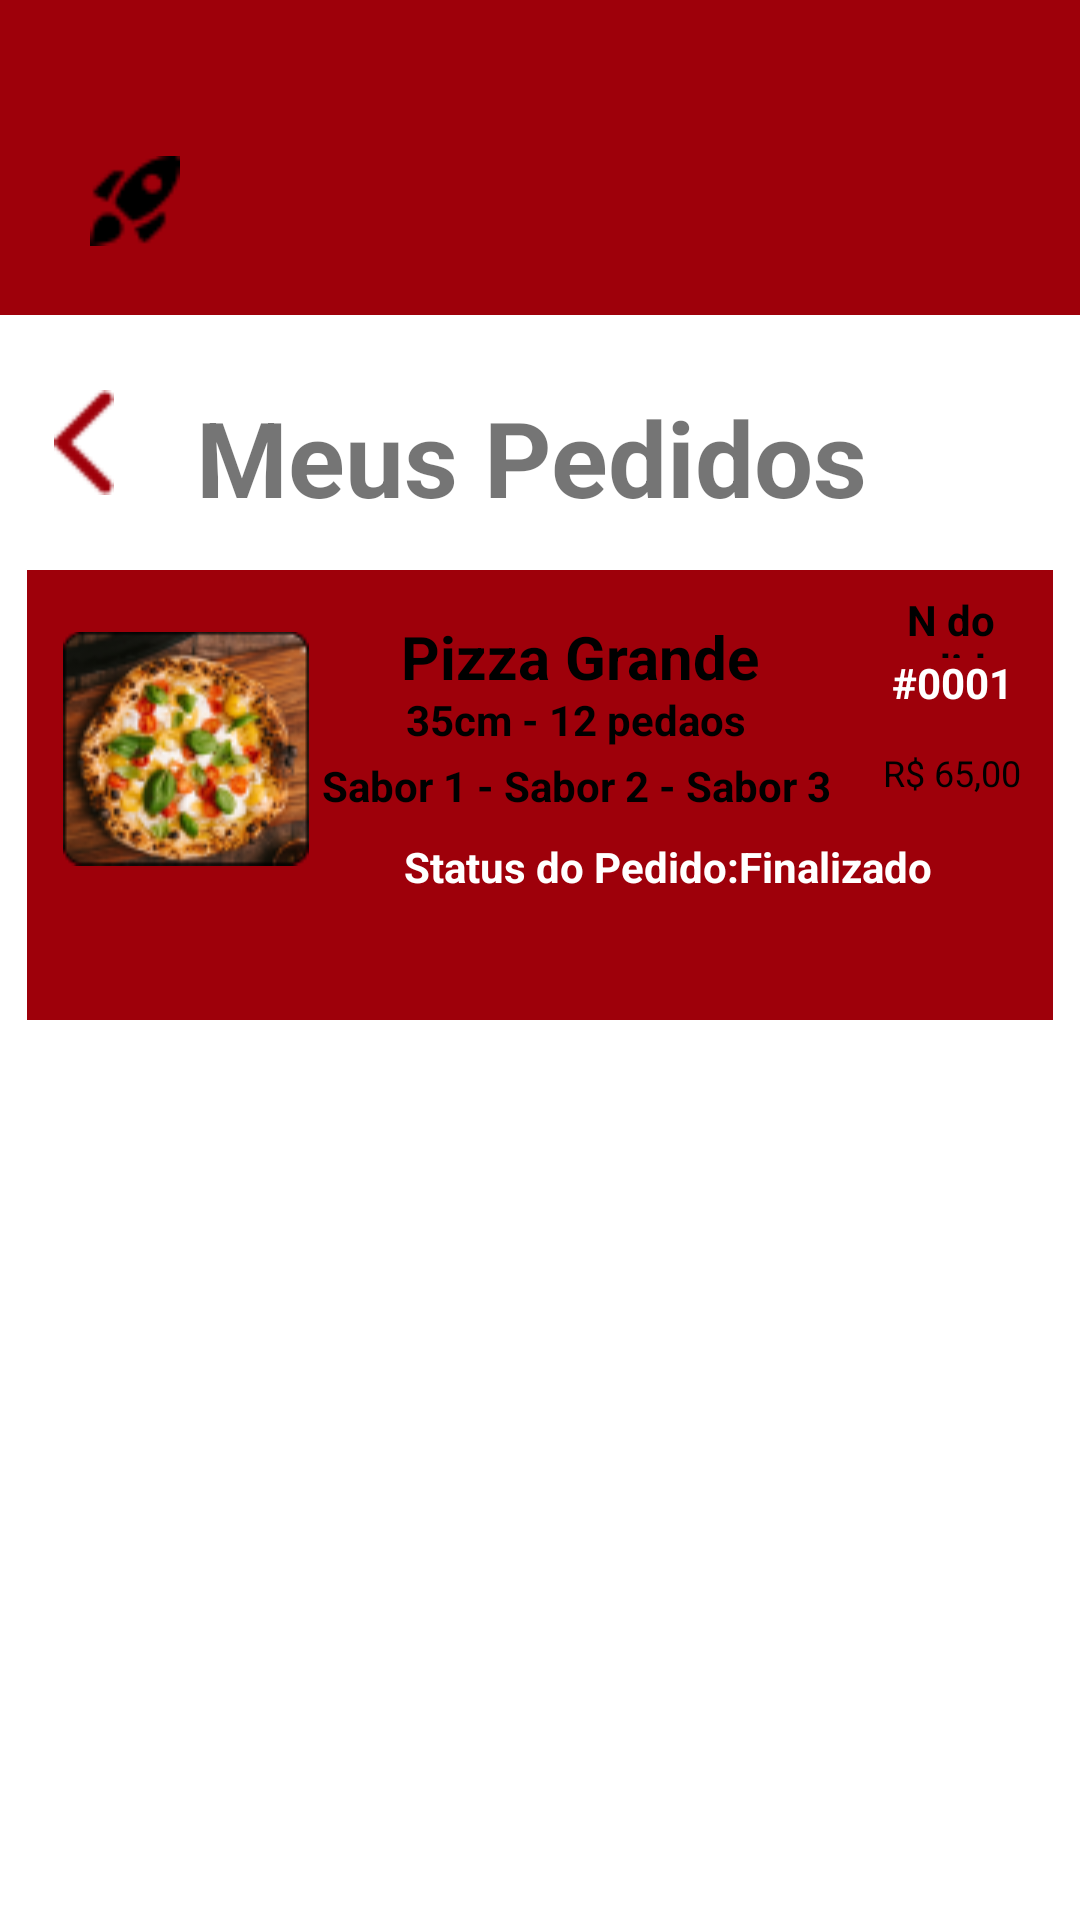

Named icons in this screenshot (1080×1920) and their bounding boxes, region(x1, y1, x2, y2):
foto pizza: region(63, 632, 309, 866)
rocket: region(90, 156, 180, 246)
